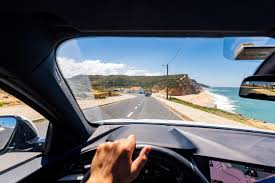Driving: (27, 53, 236, 183)
